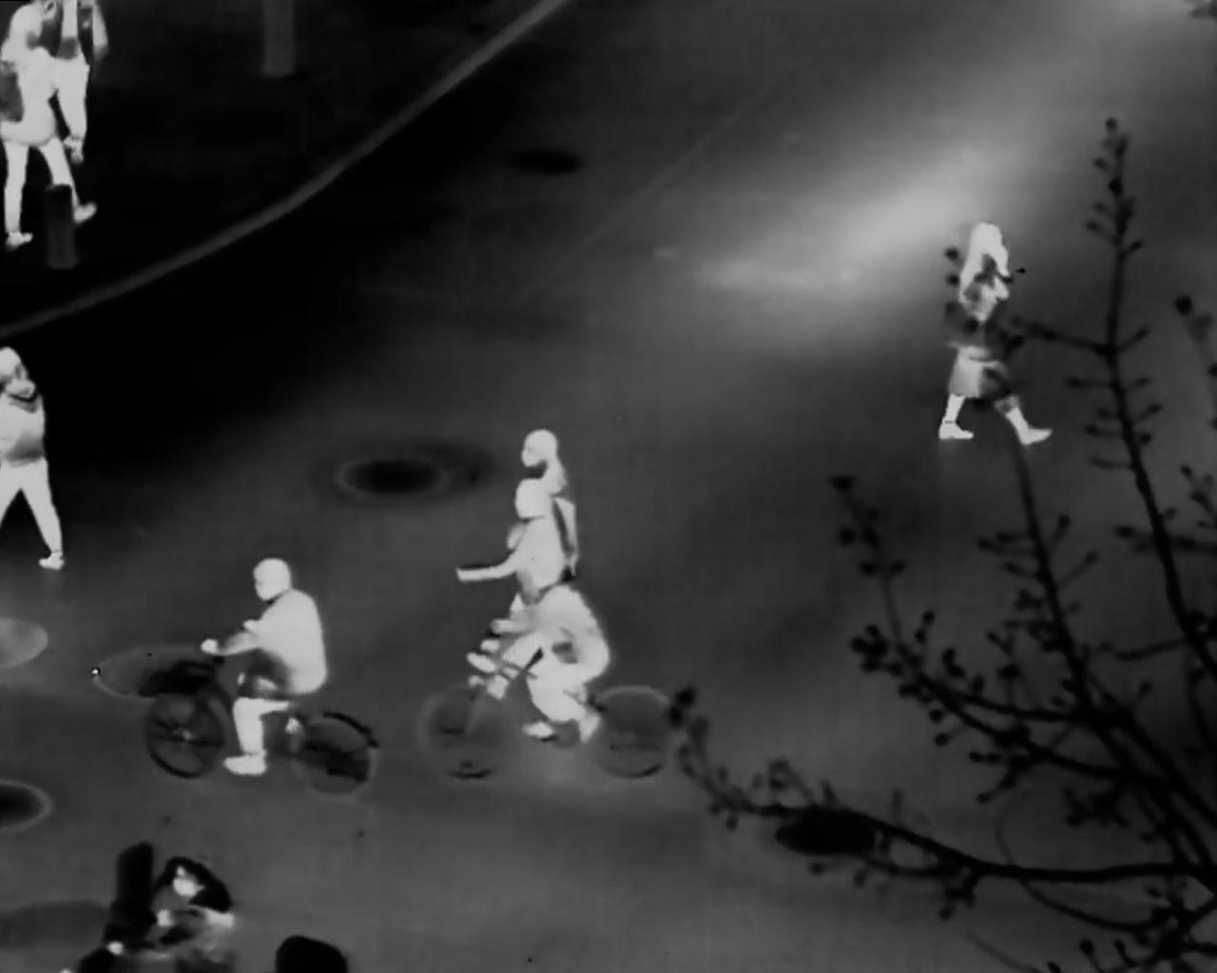person: (202, 556, 328, 778), (936, 219, 1053, 451), (471, 556, 608, 741), (2, 4, 97, 246), (454, 476, 570, 618), (510, 428, 584, 575)
